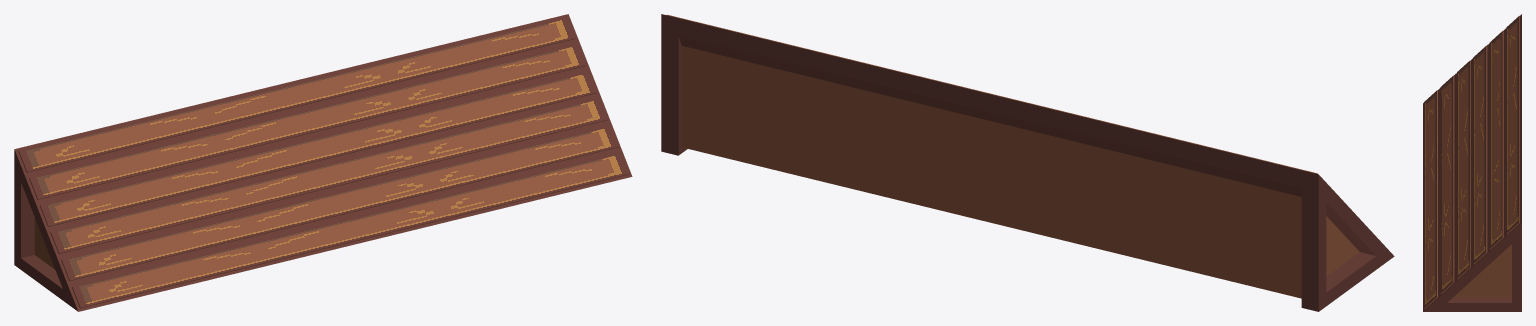
The model's file is WoodRamp.fbx.
3 renders of one model, left to right at view 1: azimuth 30°, elevation 25°; view 2: azimuth 150°, elevation 25°; view 3: azimuth 270°, elevation 25°, orthographic. The views are drawn at different scales.
Parts seen in each view (by area): view 1: WoodRamp; view 2: WoodRamp; view 3: WoodRamp.
Boxes of the visible parts, x1,y1,x2,y2 form: WoodRamp: (14, 14, 632, 311); WoodRamp: (661, 14, 1394, 311); WoodRamp: (1423, 14, 1521, 311).
Size of the model in its own units: 1000 by 200 by 200.
